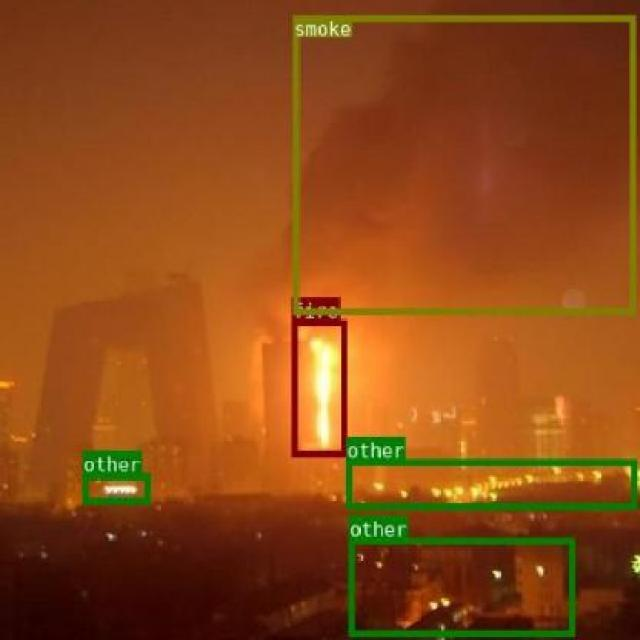fire: (290, 318, 346, 454)
smoke: (292, 14, 634, 314)
